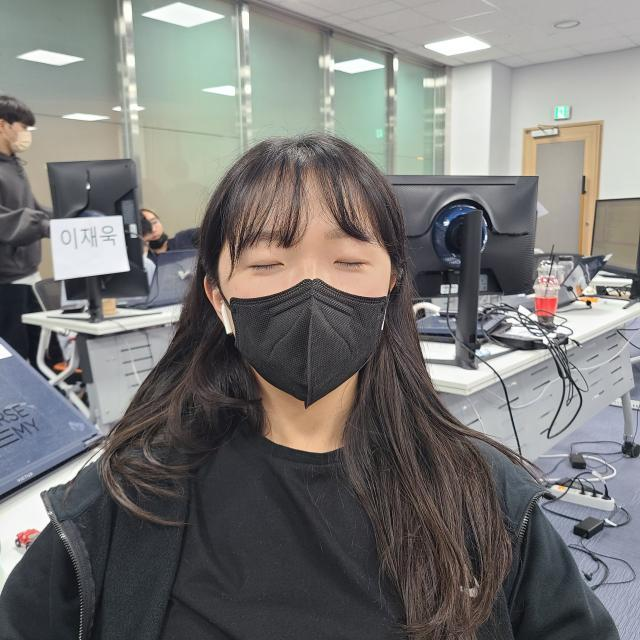earphone: (359, 145, 556, 384), (16, 140, 166, 341), (2, 298, 94, 534), (210, 289, 241, 351)
laptop_computer: (132, 218, 212, 352)
